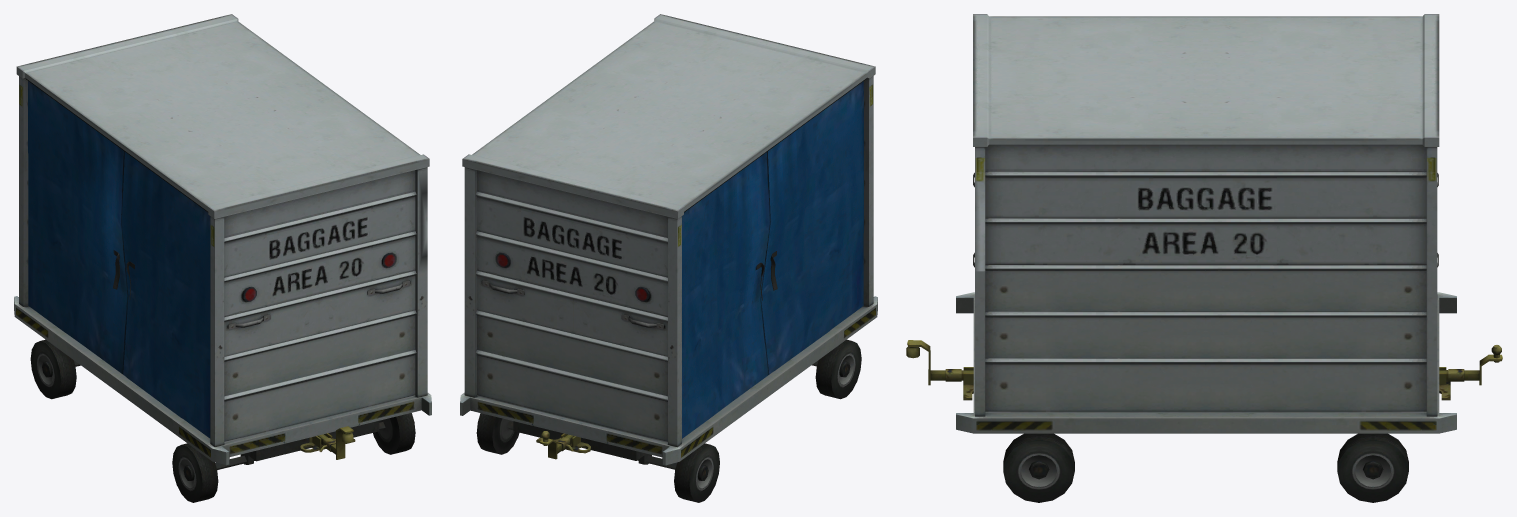
Rendered from airport_baggage_equipment_cart_lowpoly2.glb.
The picture shows the model from 3 angles, left to right: view 1: azimuth 30°, elevation 25°; view 2: azimuth 150°, elevation 25°; view 3: azimuth 270°, elevation 25°; orthographic projection. The views are drawn at different scales.
Visible parts, largest first — view 1: Object_2; view 2: Object_2; view 3: Object_2.
Part boxes in pixels (<box>): Object_2: <box>14,14,431,502</box>; Object_2: <box>460,14,877,502</box>; Object_2: <box>906,14,1502,502</box>.
Size of the model in its own units: 20.62 by 27.9 by 41.23.
1 material, 1 textured.
